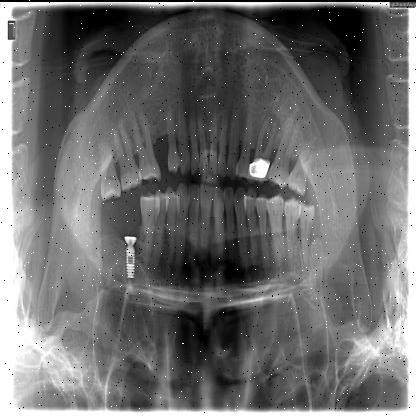Bicon: (122, 244, 140, 284)
